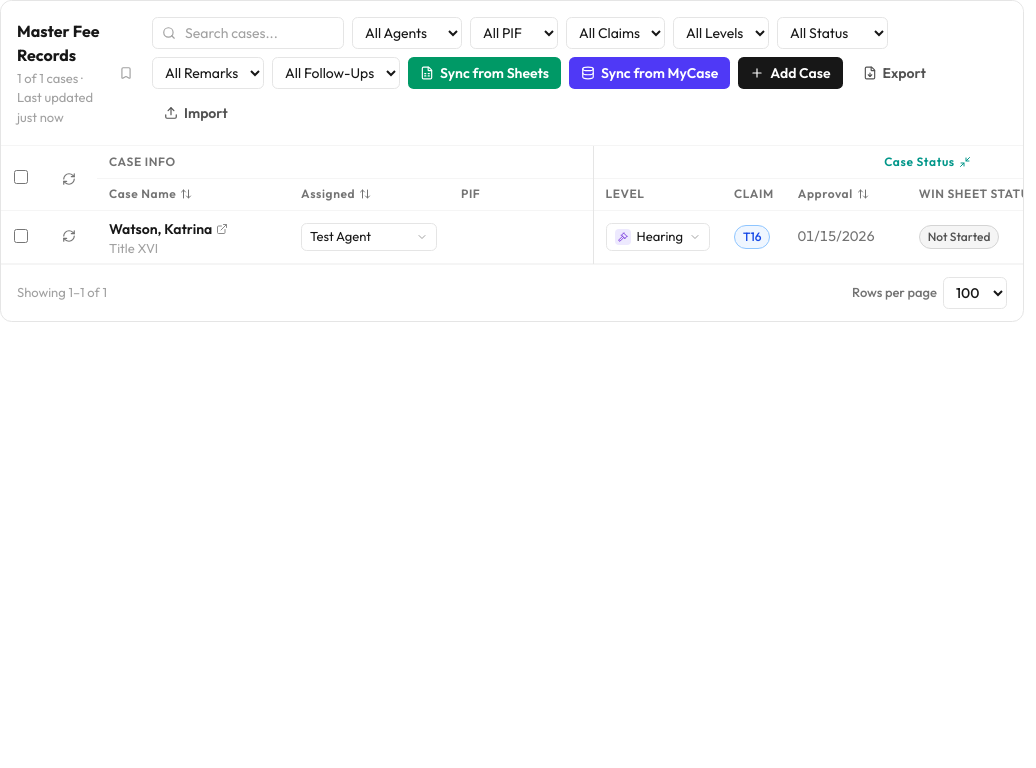
it: FeeRecordsTable — Add to Fee Petitions batch action › is available to an admin alongside the admin-only actions
Step 1. Click the checkbox named "Select Watson, Katrina" → [21, 236], box [14, 228, 28, 242]
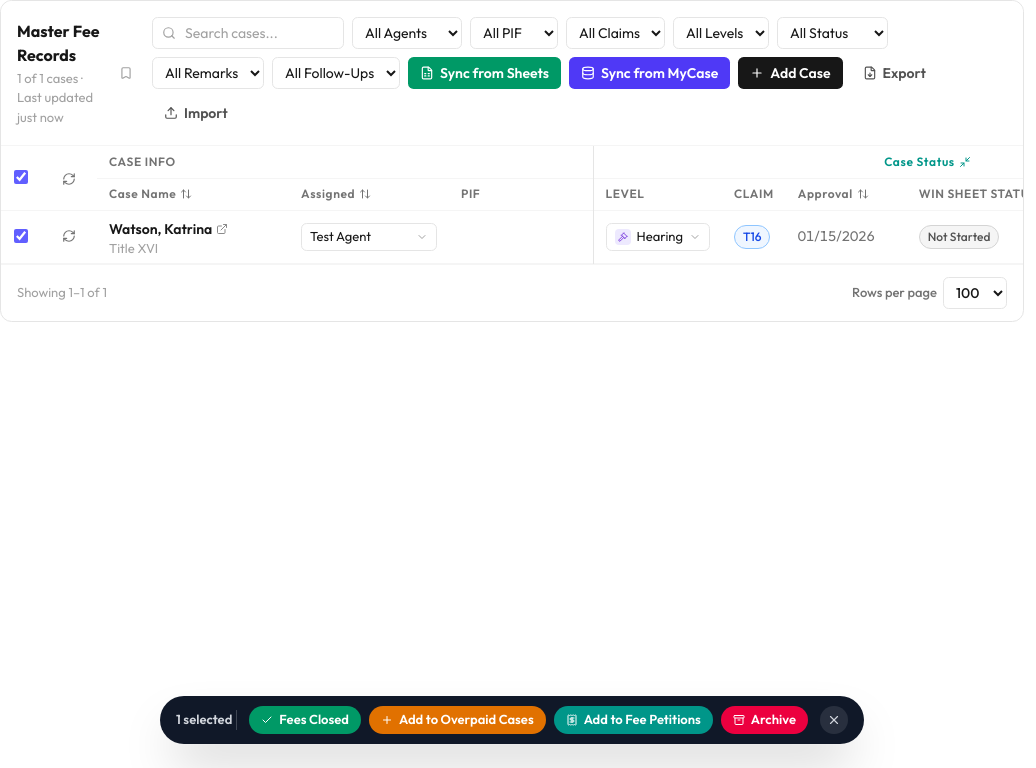
Expected: the button "Add to Fee Petitions" is shown, [554, 706, 713, 734]
Expected: the button "Archive" is shown, [721, 706, 808, 734]
